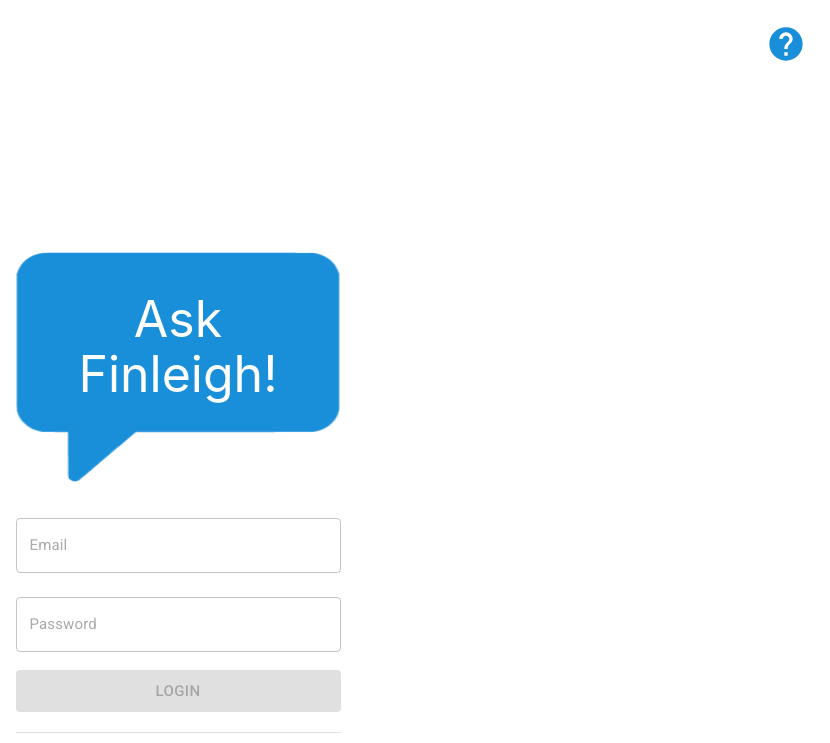
it: Landing Page Tests › Enter invalid email
The width and height of the screenshot is (830, 743).
Check: the heading "Ask Finleigh!" is shown, box [78, 289, 278, 404]
Type "invalid@email" into the field with id "email-input" at coordinates (179, 546), box [16, 518, 341, 573]
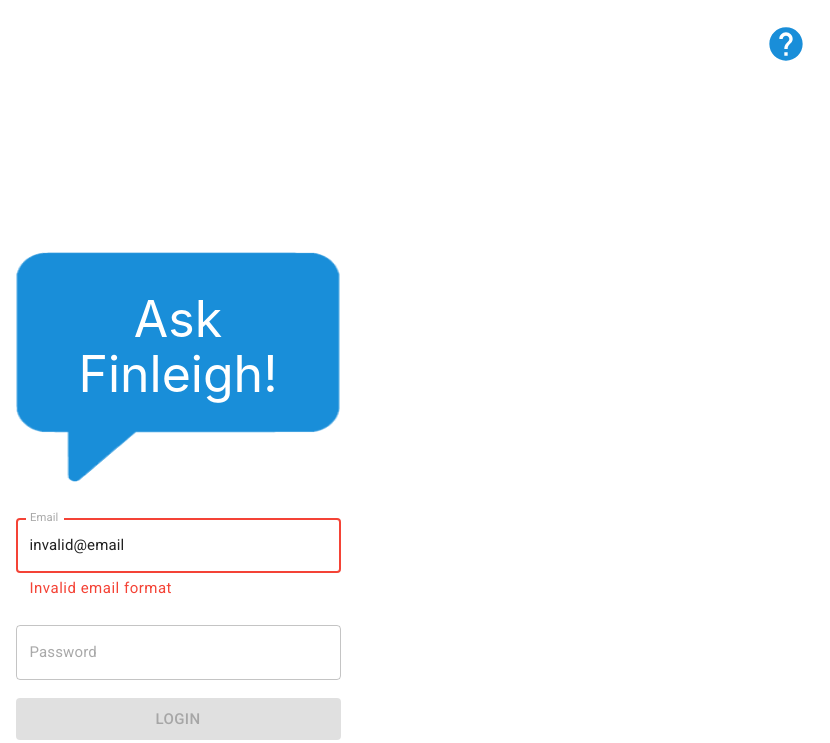
Check: the text "Invalid email format" is shown, box [30, 579, 172, 597]
